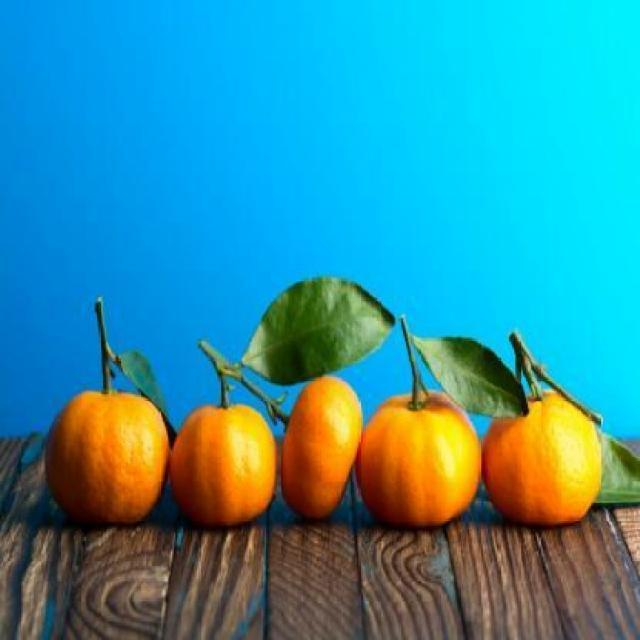Jeruk Sudah Matang: (358, 386, 484, 526), (486, 392, 604, 528), (43, 392, 169, 518), (172, 394, 278, 528), (279, 372, 361, 518)
